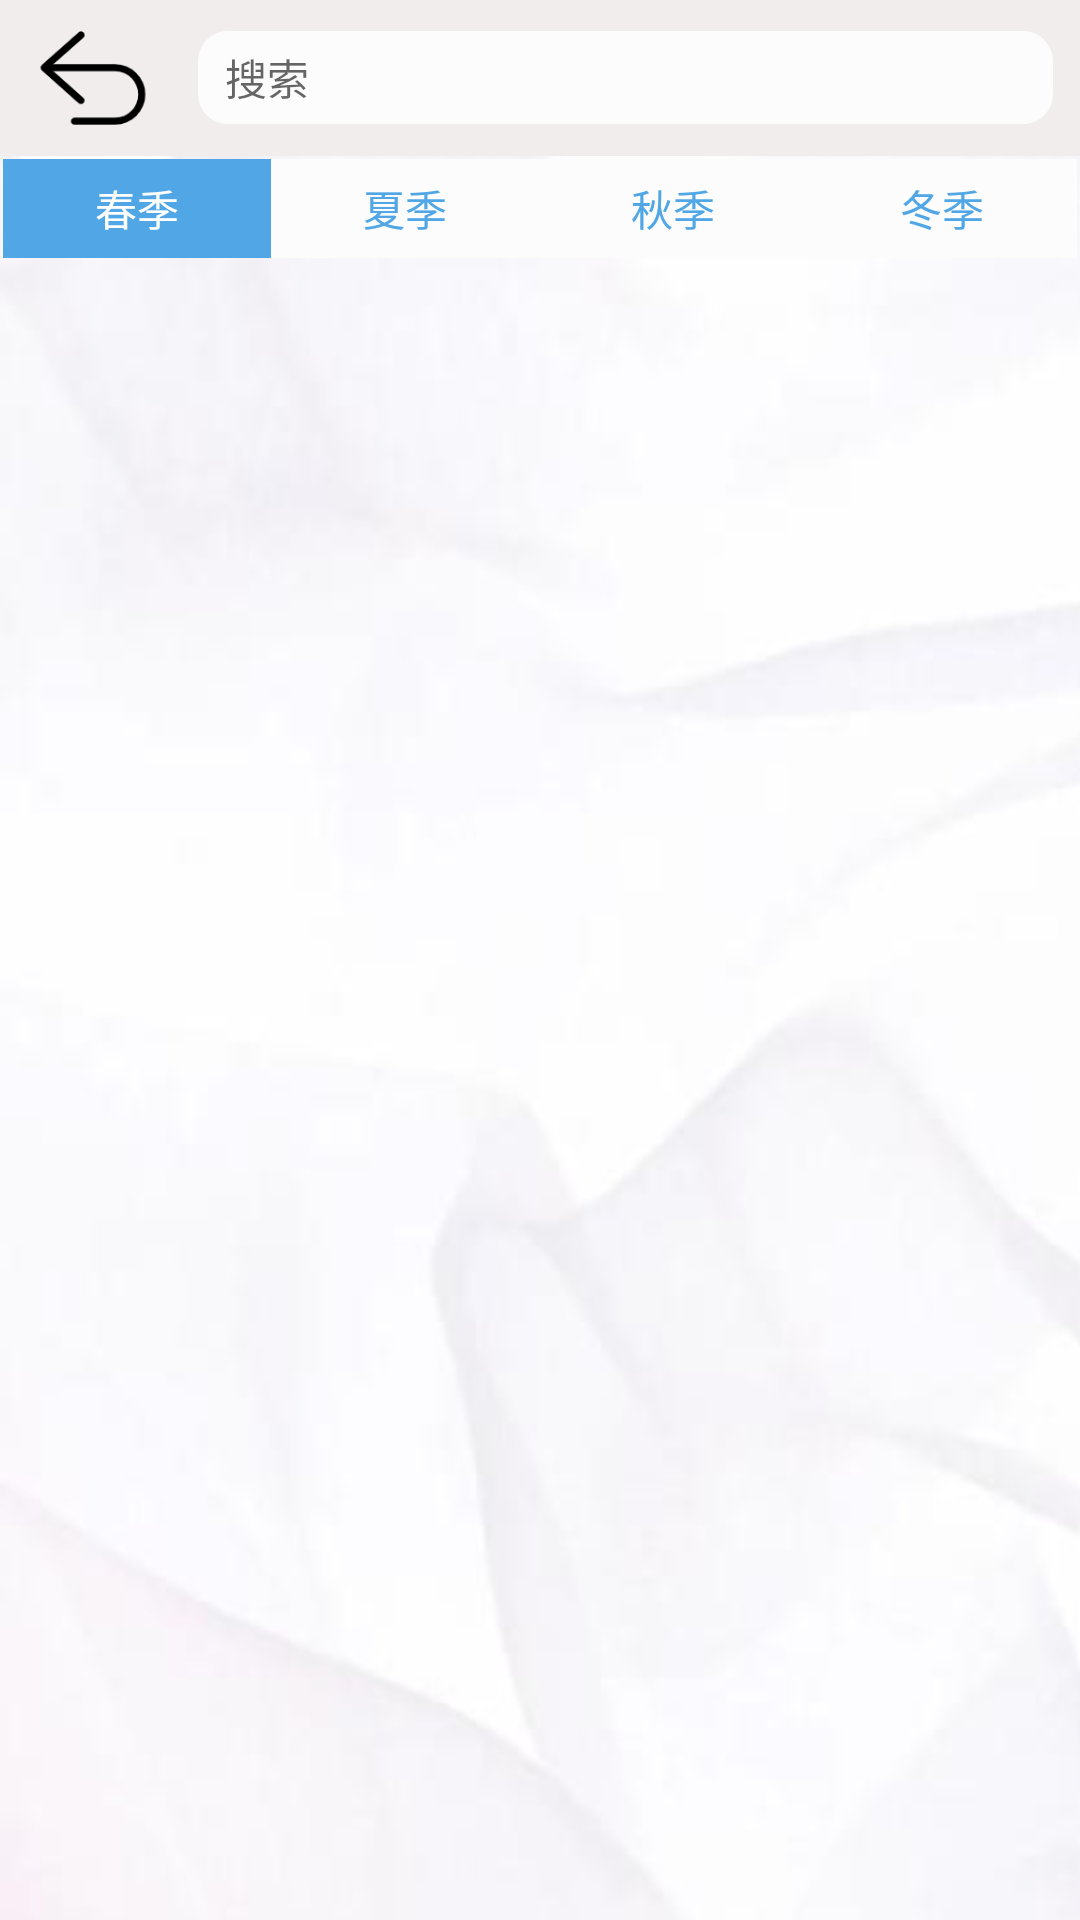

Named icons in this screenshot (1080px x 1920px) and their centers, point (x, y):
back: point (93, 78)
